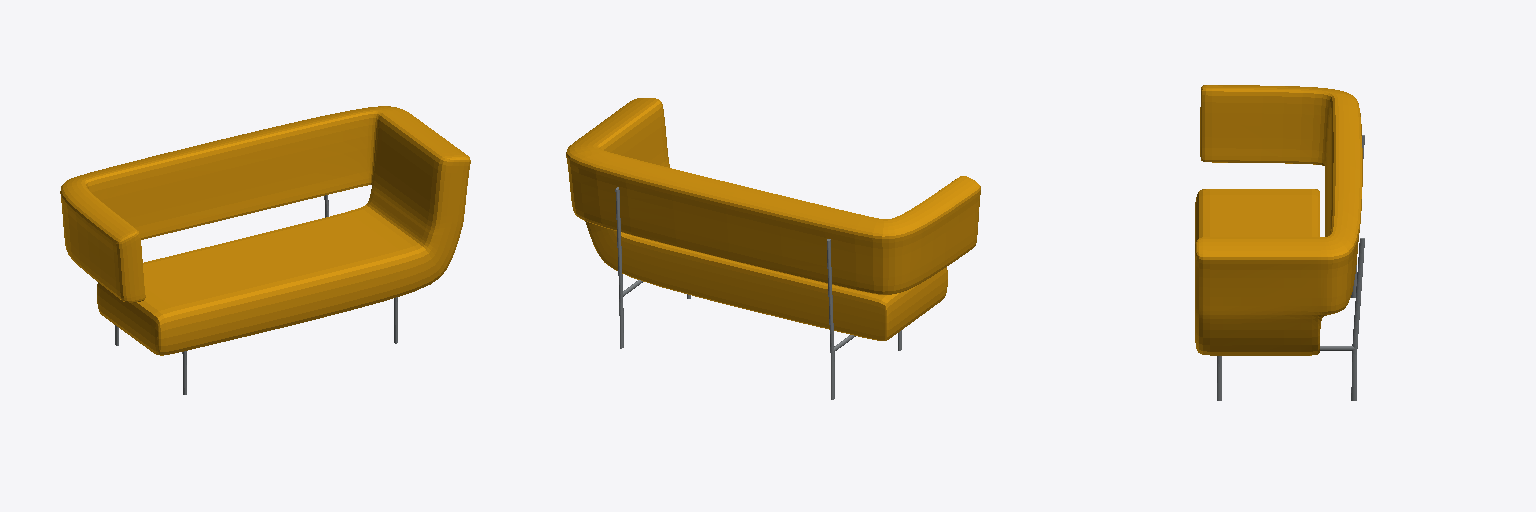
The picture shows the model from 3 angles: view 1: azimuth 30°, elevation 25°; view 2: azimuth 150°, elevation 25°; view 3: azimuth 270°, elevation 25°; orthographic projection.
Visible parts, largest first — view 1: Cube_Cube.001; view 2: Cube_Cube.001, Cylinder.013, Cylinder; view 3: Cube_Cube.001, Cylinder.013.
Part boxes in pixels (x1,y1,x2,y2): Cube_Cube.001: (60,106,470,355); Cube_Cube.001: (566,98,980,340); Cylinder.013: (615,187,901,350); Cylinder: (827,239,834,399); Cube_Cube.001: (1195,85,1362,355); Cylinder.013: (1217,238,1364,400).
Size of the model in its own units: 6.18 by 3.05 by 2.59.
4 materials, 1 textured.